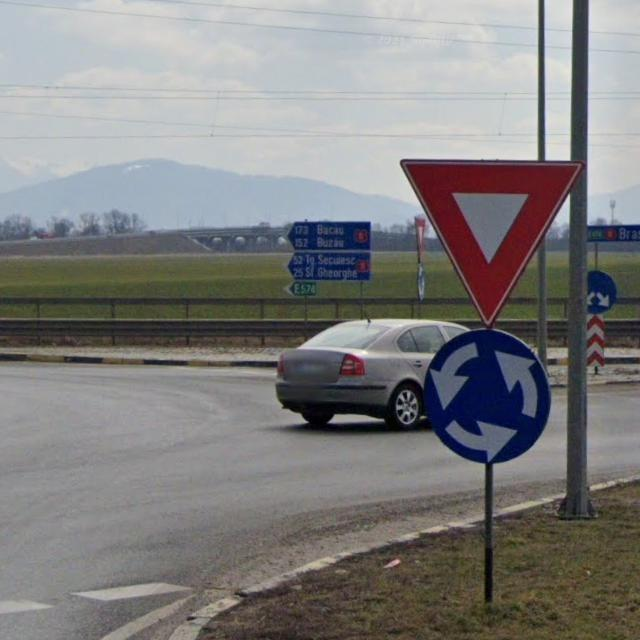prio_give_way: (395, 156, 580, 326)
